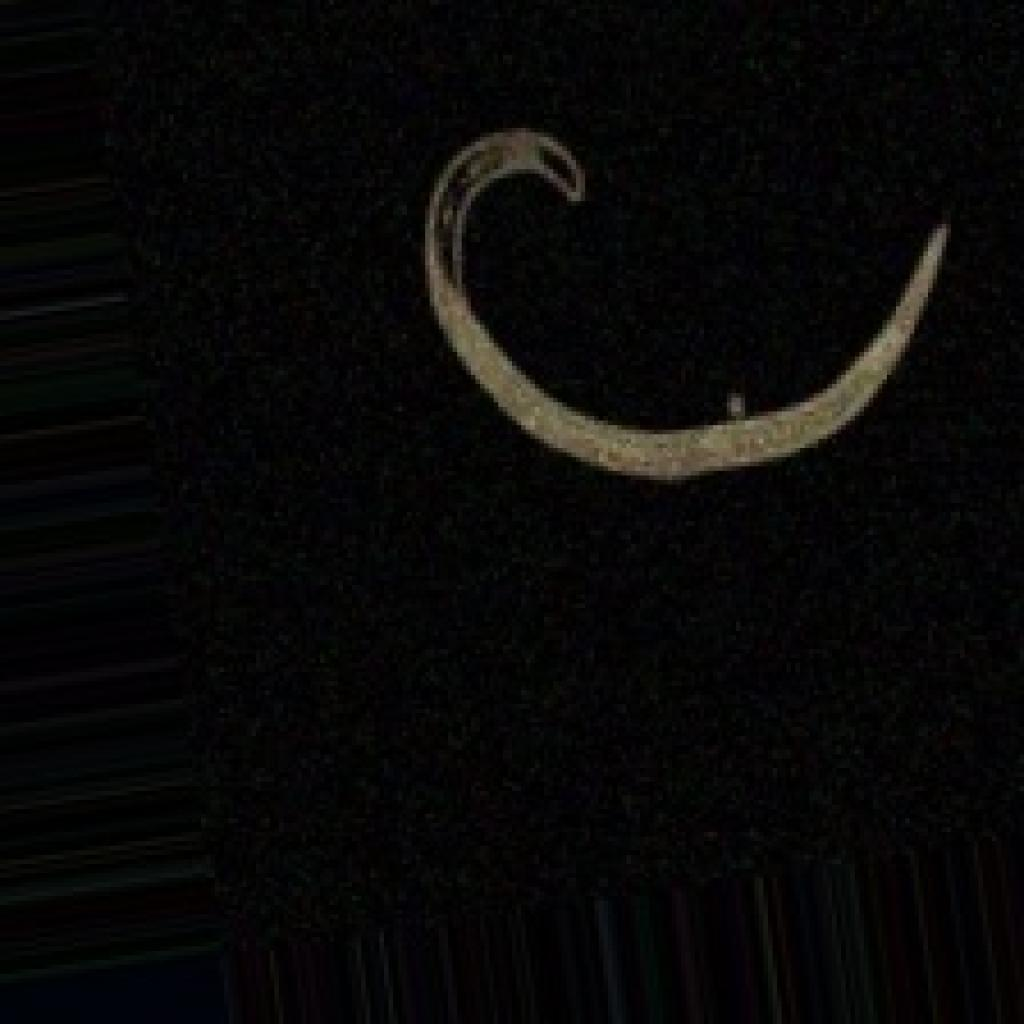Nematode: (416, 119, 951, 484)
